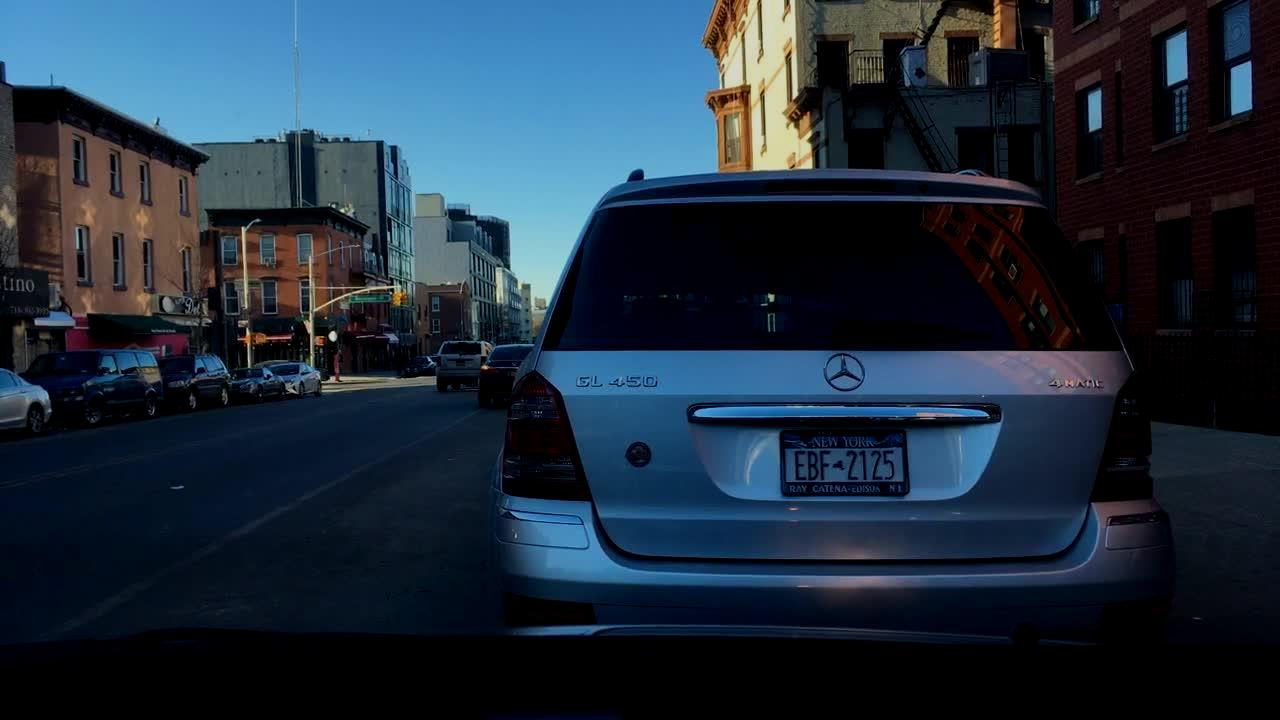Mercedes: (813, 346, 878, 397)
